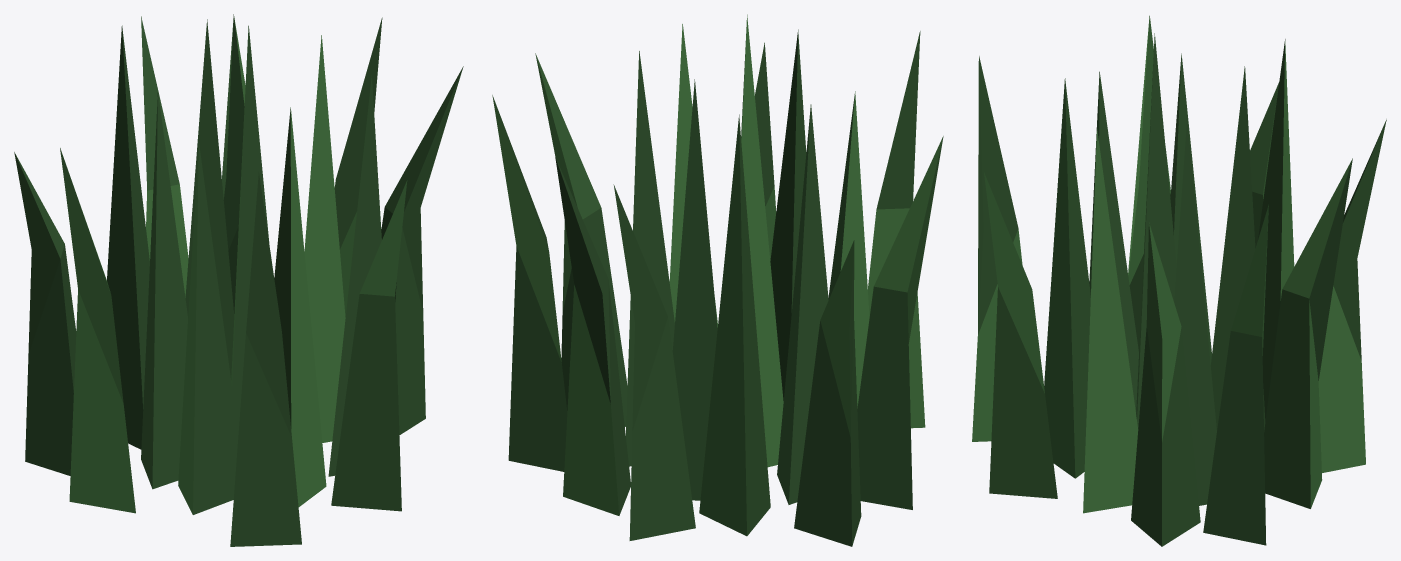
The model's file is Grass_4_Green.fbx.
3 views of the same model, side by side, from view 1: azimuth 30°, elevation 25°; view 2: azimuth 150°, elevation 25°; view 3: azimuth 270°, elevation 25° (orthographic). The views are drawn at different scales.
Visible parts, largest first — view 1: Grass_4_Green_Part_1, Grass_4_Green_Part_2; view 2: Grass_4_Green_Part_1, Grass_4_Green_Part_2; view 3: Grass_4_Green_Part_1, Grass_4_Green_Part_2.
Part boxes in pixels (x1,y1,x2,y2): Grass_4_Green_Part_1: (14,14,463,546); Grass_4_Green_Part_2: (60,16,407,514); Grass_4_Green_Part_1: (495,27,920,546); Grass_4_Green_Part_2: (492,14,943,536); Grass_4_Green_Part_1: (978,33,1386,546); Grass_4_Green_Part_2: (972,15,1365,513).
Size of the model in its own units: 44.82 by 46.94 by 41.13.
